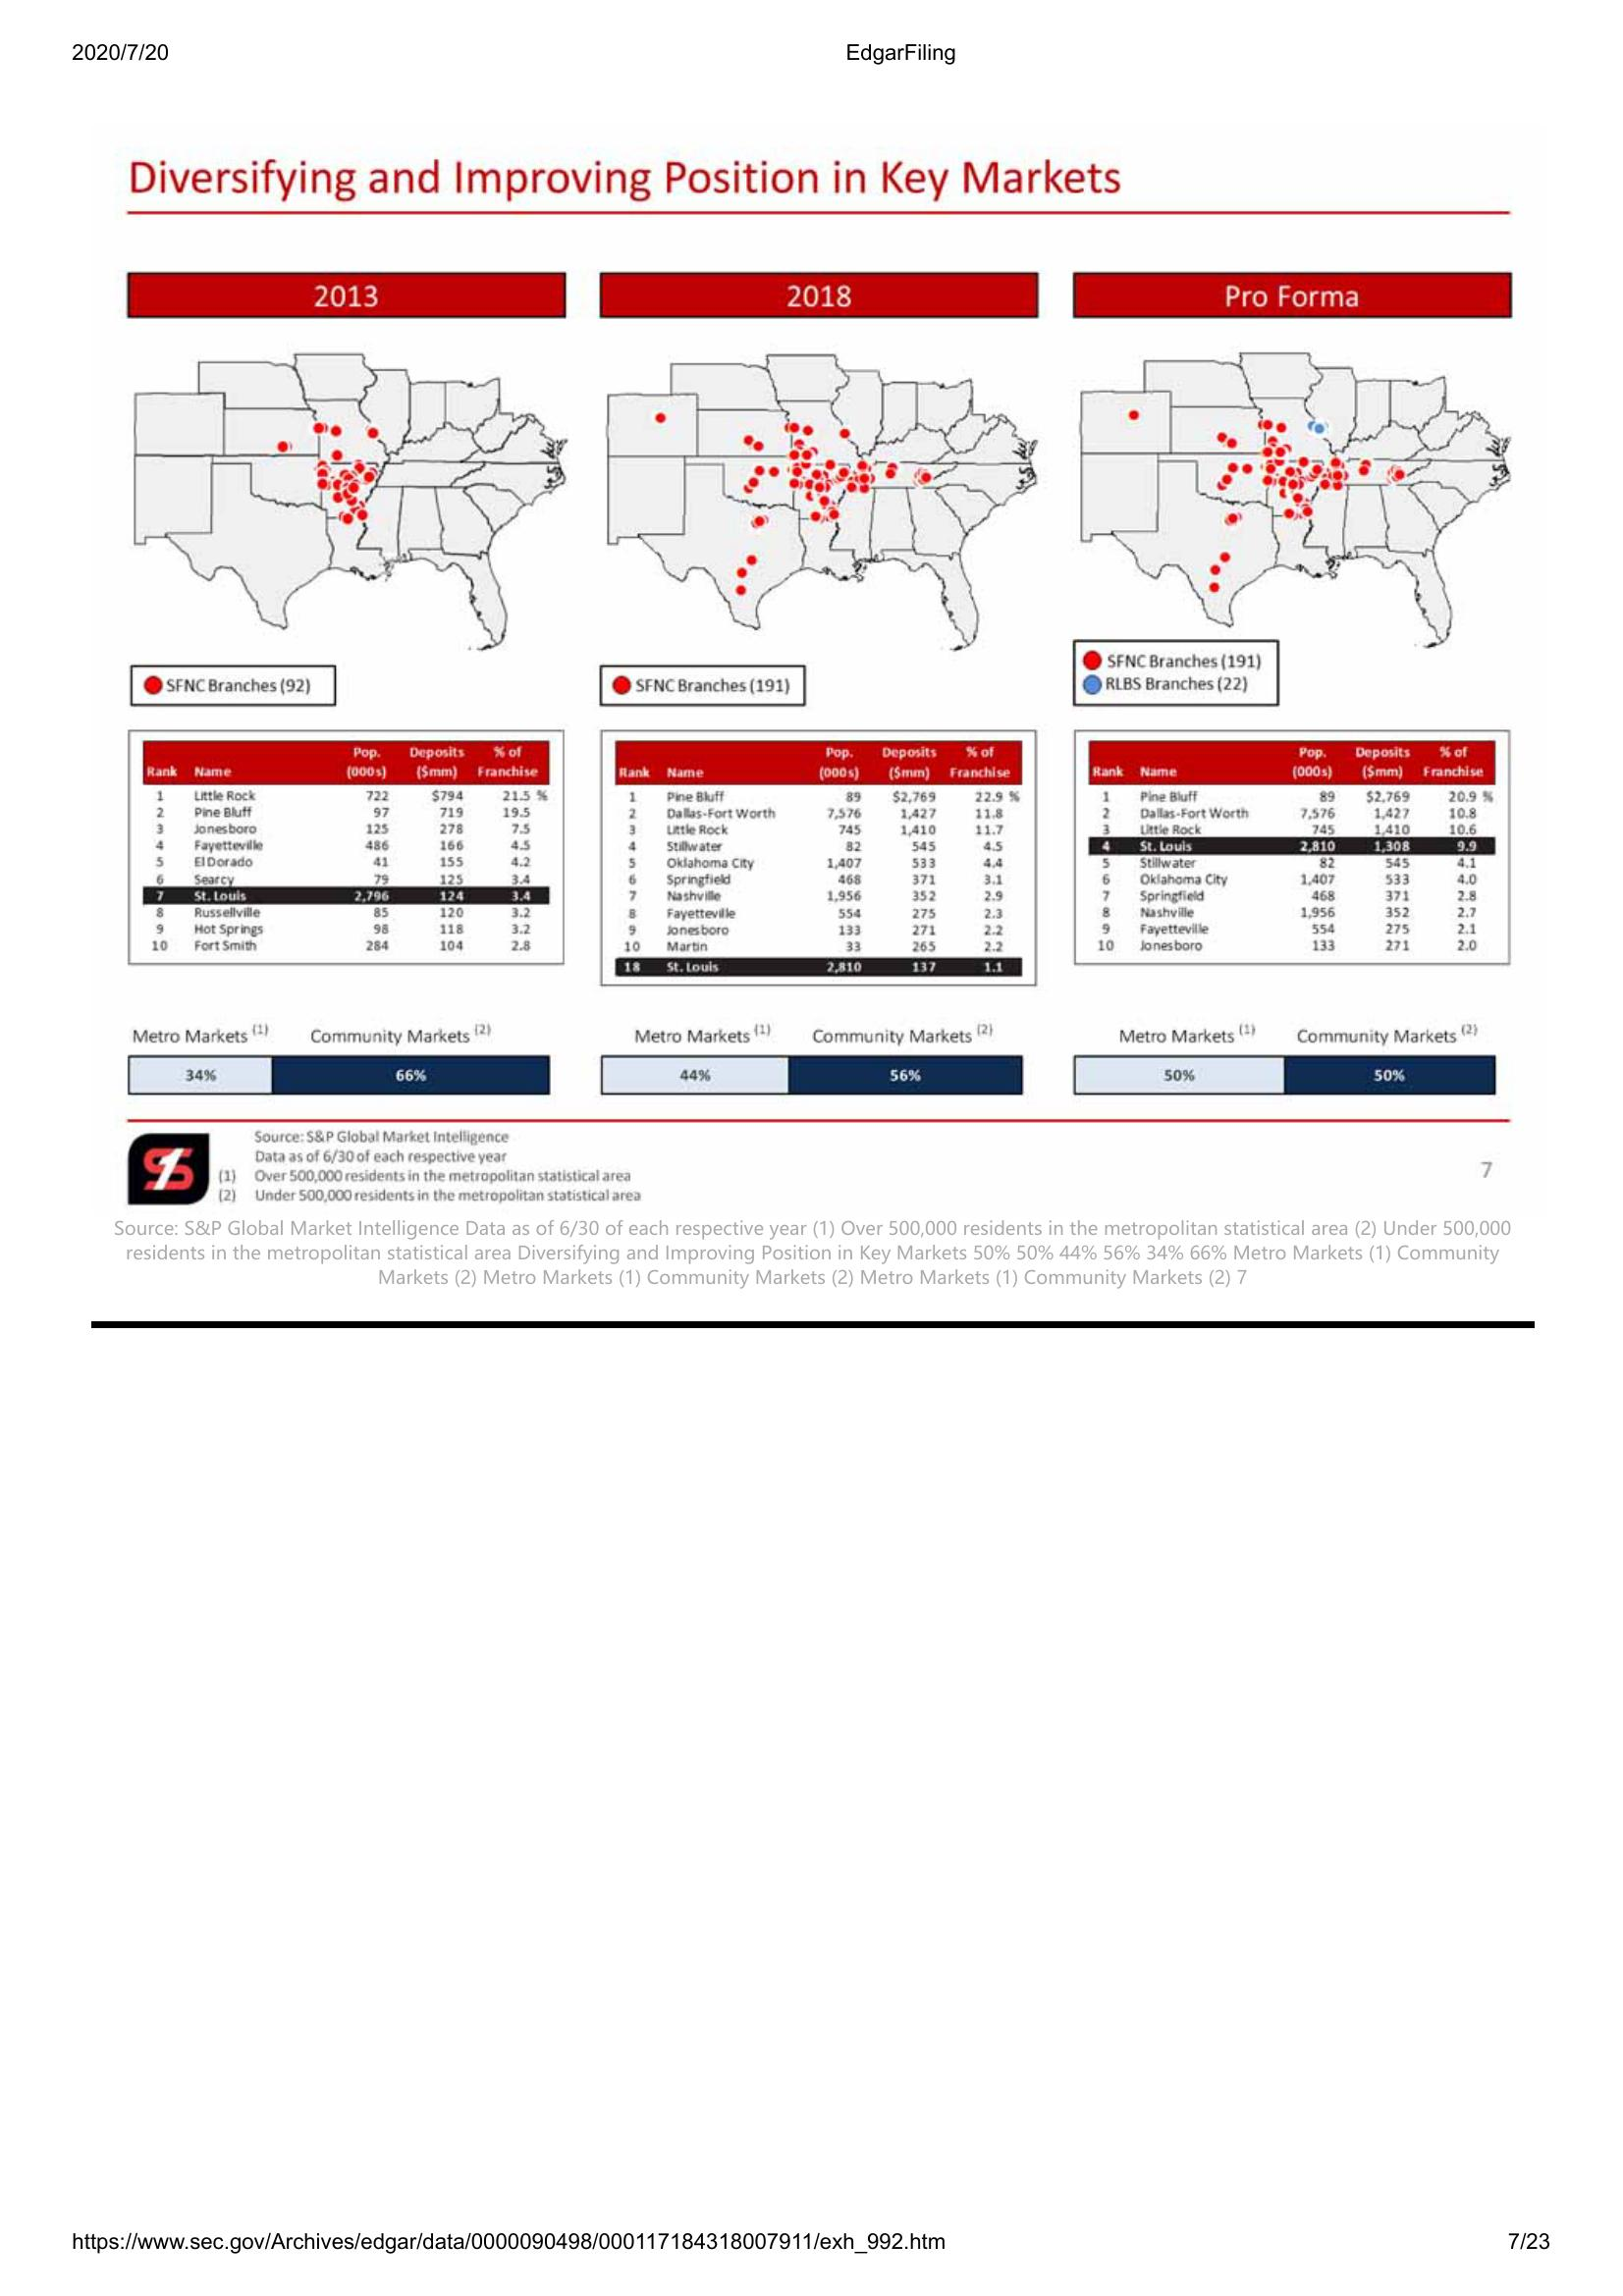table: (595, 727, 1043, 992), (1068, 723, 1514, 971), (126, 727, 566, 967)
